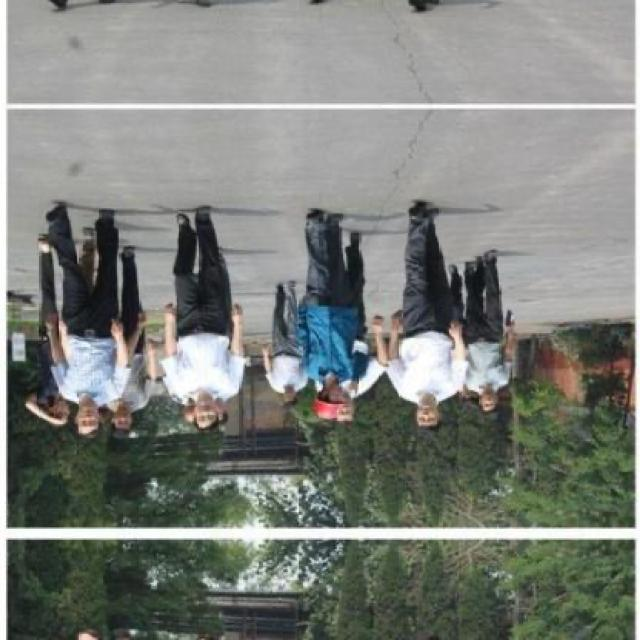con casco: (292, 371, 364, 433)
sin casco: (32, 384, 128, 452), (449, 378, 524, 433), (398, 382, 456, 452), (191, 403, 239, 452)
